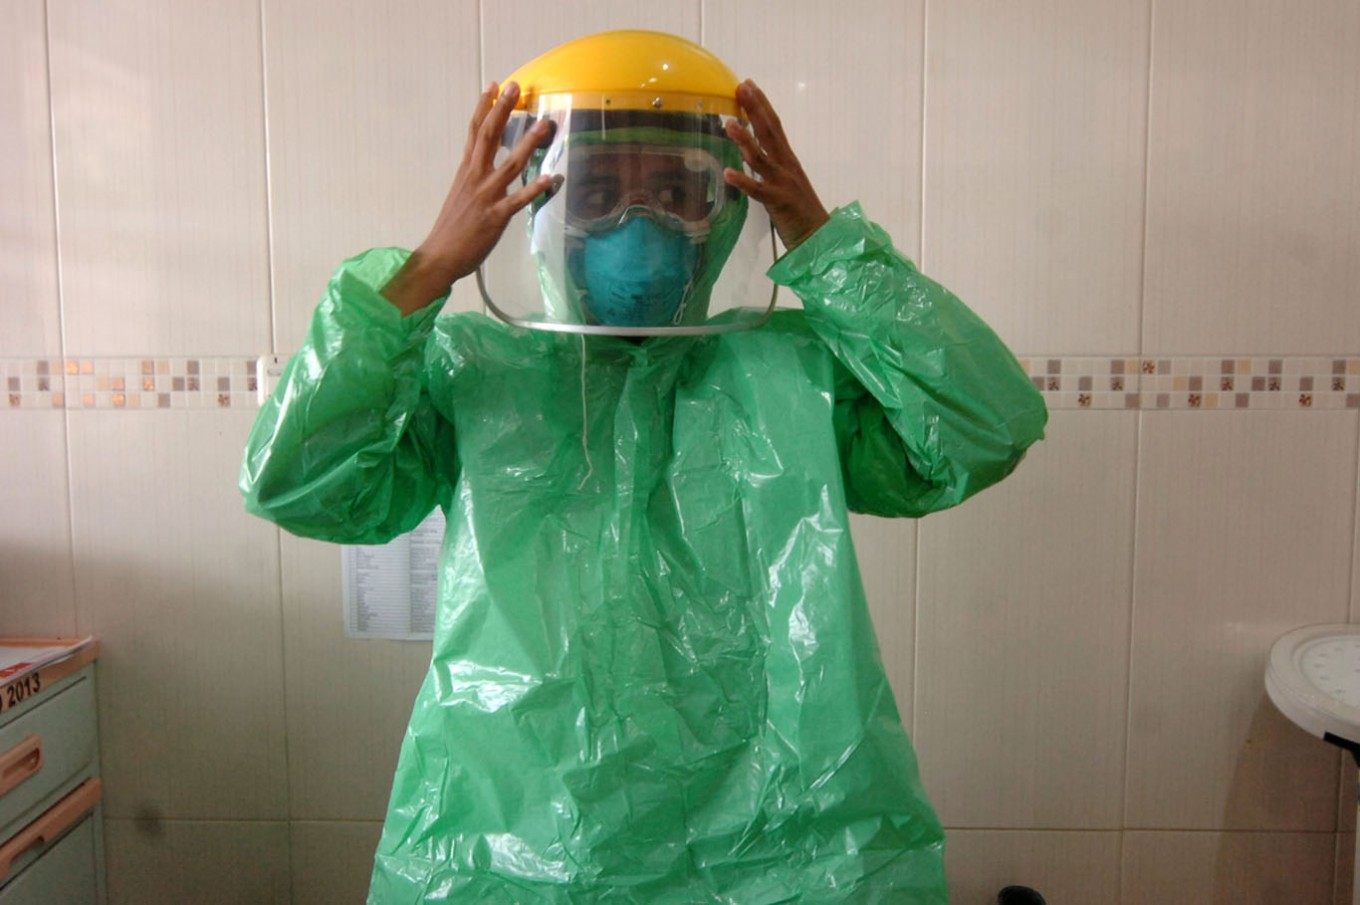Coverall: (240, 237, 1057, 905)
Face_Shield: (470, 77, 785, 339)
Goggles: (538, 142, 731, 245)
with_mask: (566, 181, 707, 343)
